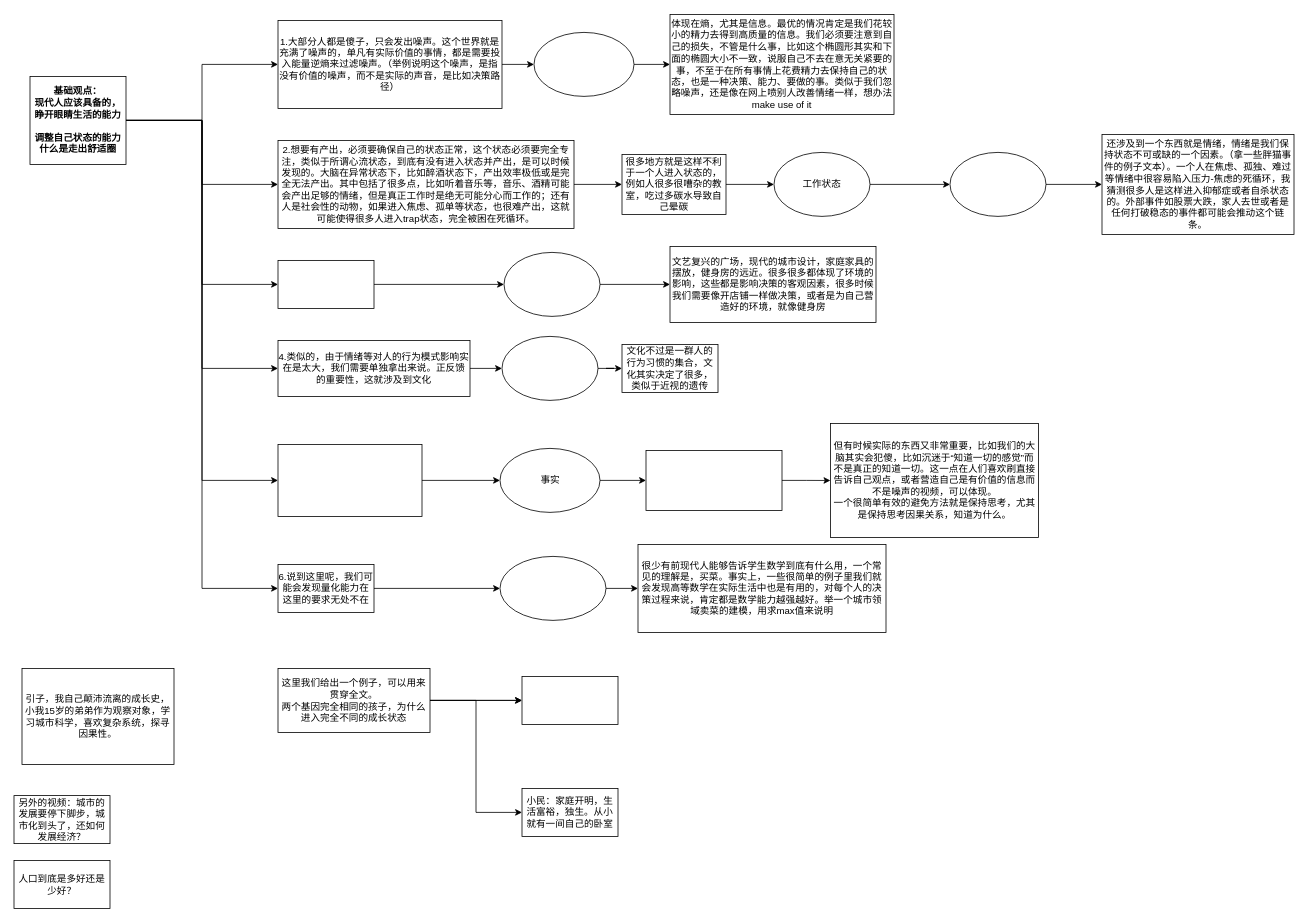
The diagram is 1308 pixels wide and 922 high, and some of its shapes have lost their labels. Here are the shapes that lost their labels. From the top down, the box of each, then its label:
(533, 32, 634, 96): 价值
(949, 152, 1046, 216): 情绪
(277, 260, 374, 308): 3.在2的基础上，环境对一个人的影响是巨大的，是方方面面的
(503, 252, 600, 316): 环境
(501, 336, 598, 400): 文化
(277, 444, 422, 516): 5.其实我们在谈到近视的遗传时就涉及到了另外一件事，我举的例子是否就完全是正确的呢？我们就需要明白一件事，事实并不是最重要的，很大程度上，事实是可以被抛弃的。
(645, 450, 782, 510): 如果我的目的是说明文化对人的重要影响，而不是近视有百分之多少由家庭习惯遗传，那么这个百分比的事实在这里是可以被抛弃的。
(499, 556, 606, 620): 数学有什么用
(521, 676, 618, 724): 小明：家庭传统严格、较为贫困，非独生
